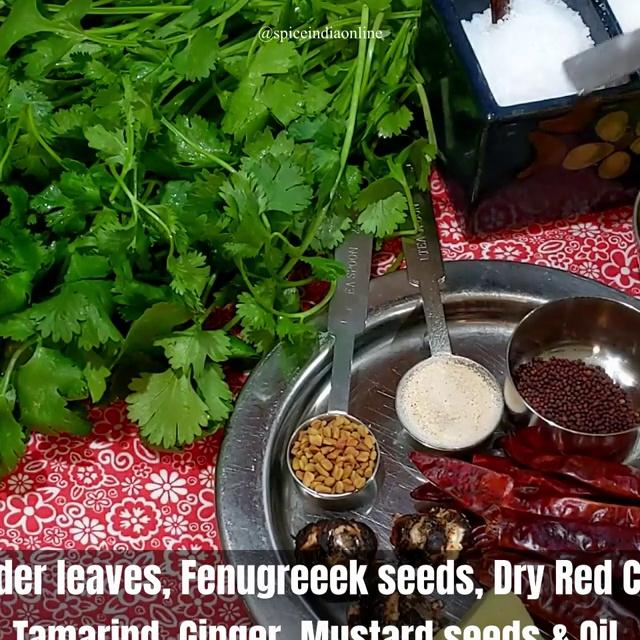cilantro: (0, 0, 332, 405)
